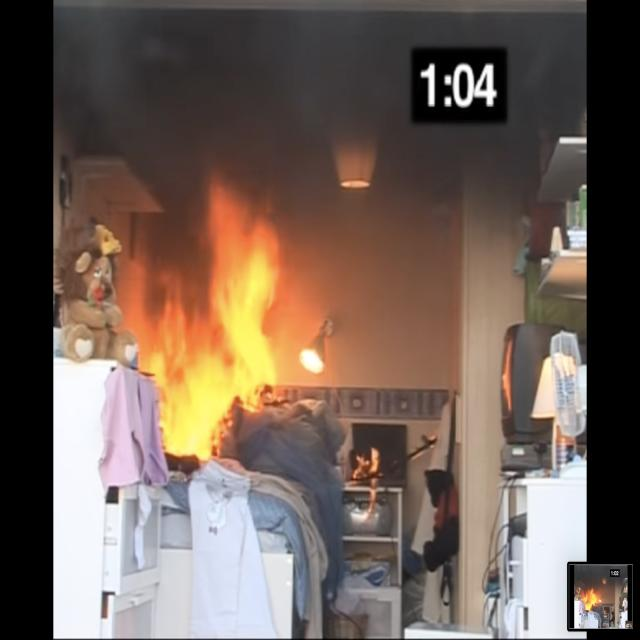Fogo: (114, 178, 450, 544)
